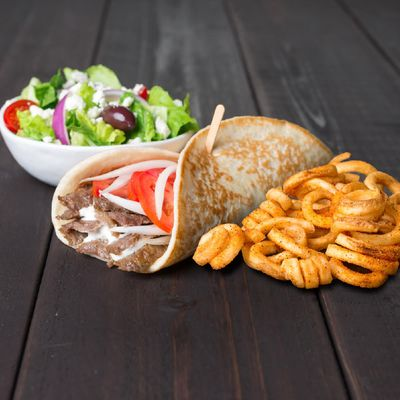sushi: (0, 64, 201, 187)
